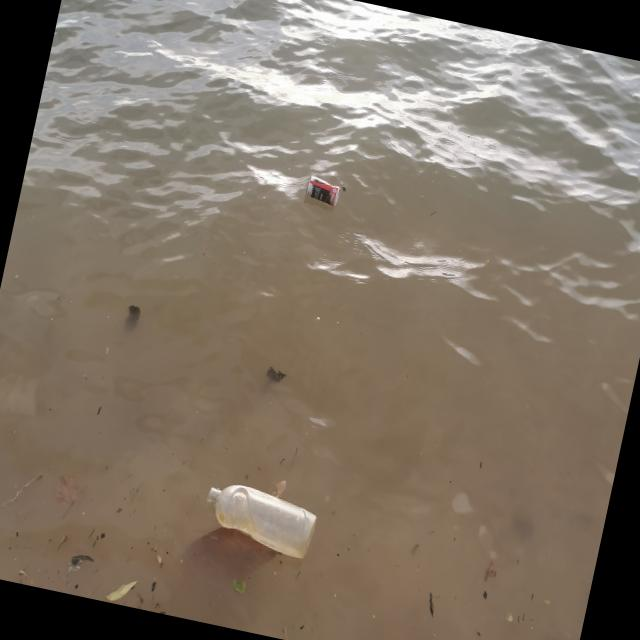can: (304, 175, 341, 208)
plastic: (198, 478, 322, 562)
